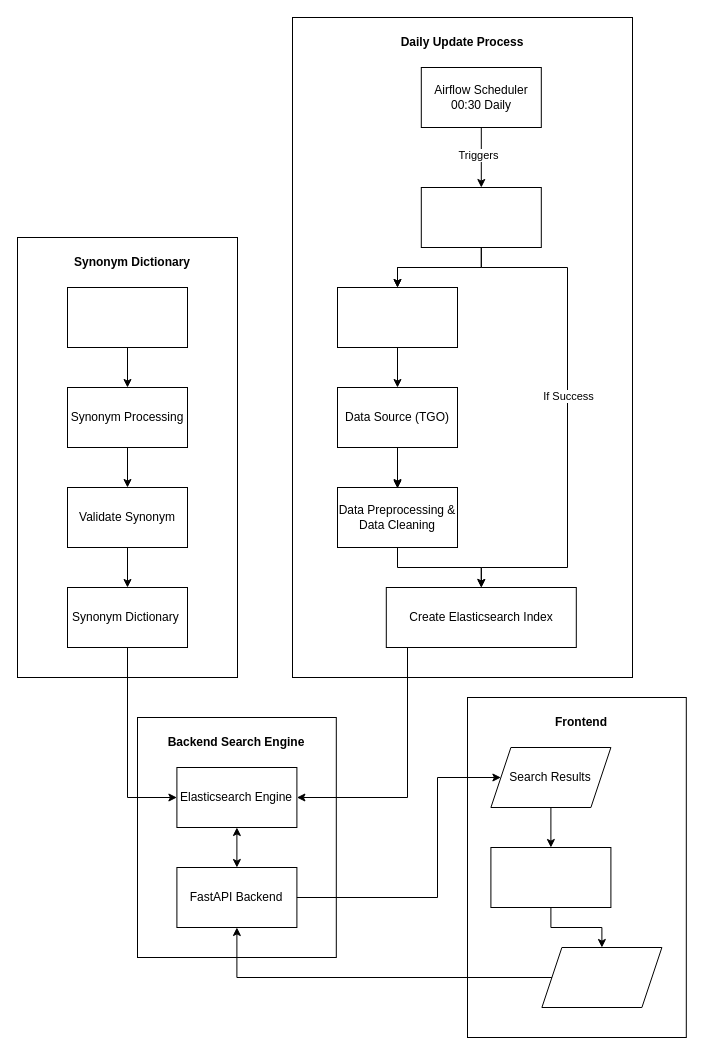
Some shapes in this 704 by 1055 pixel diagram are drawn without their labels. The box of each missing label's shape, as (x1, y1, x2, y2) in pixels:
Extract data DAG: (420, 186, 541, 248)
Extract Key Terms: (66, 286, 188, 348)
React.js Frontend (User Interface & Display Results): (490, 846, 611, 908)
User Query (Thai/English): (541, 946, 662, 1008)
Web Scraping (Data Extraction): (336, 286, 458, 348)
